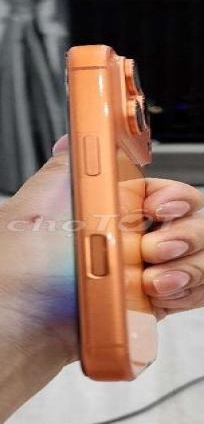scratch: (92, 67, 113, 124)
